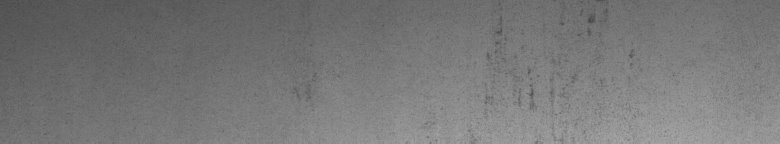ib: (478, 9, 643, 119)
